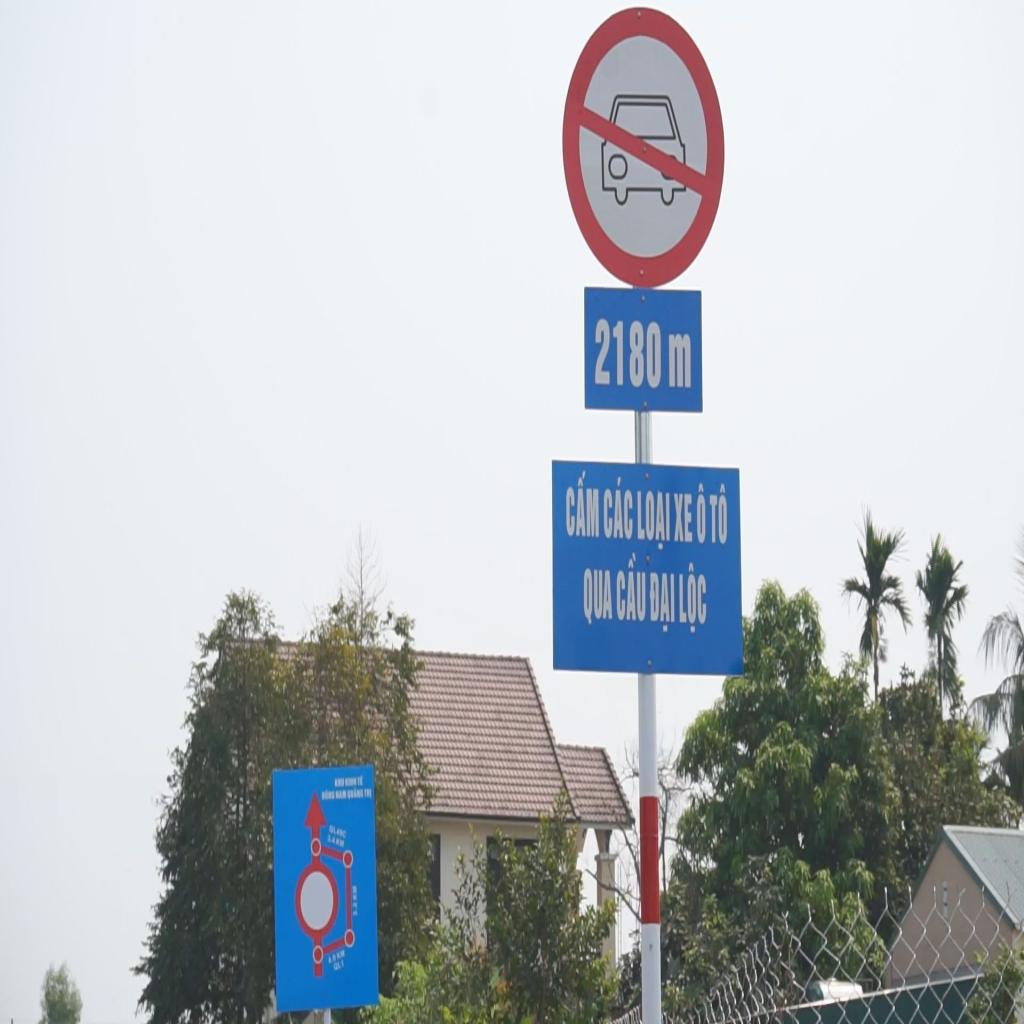text: (593, 313, 693, 394), (564, 470, 601, 545), (635, 486, 672, 556), (614, 554, 647, 628), (678, 559, 708, 636), (582, 563, 615, 632), (602, 473, 634, 544), (649, 570, 676, 637), (708, 481, 730, 551), (672, 489, 694, 548), (696, 481, 706, 547), (347, 786, 364, 801), (322, 790, 336, 802), (334, 790, 348, 801), (345, 776, 357, 788), (334, 777, 345, 789), (364, 788, 373, 801), (358, 775, 364, 787)
